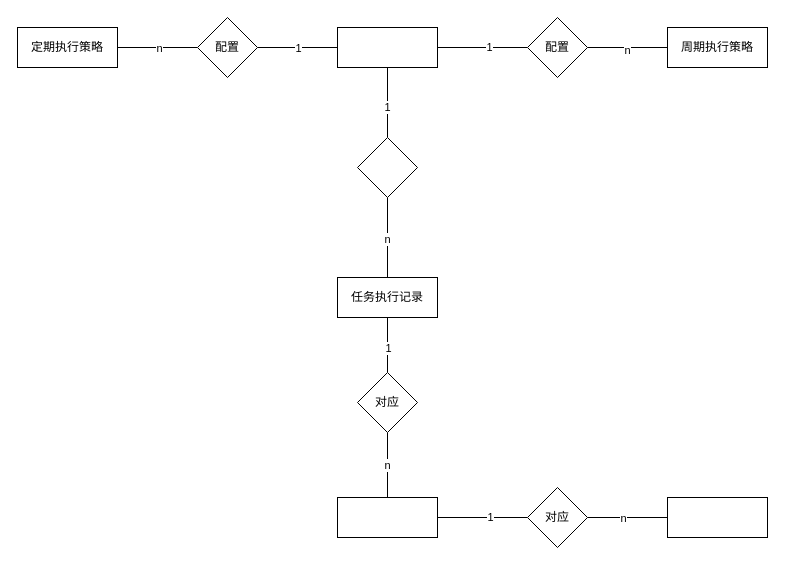
The diagram is 785 pixels wide and 565 high, and some of its shapes have lost their labels. The box of each missing label's shape, as (x1, y1, x2, y2) in pixels:
任务: (336, 26, 438, 68)
点位巡检告警记录: (666, 496, 768, 538)
点位巡检结果: (336, 496, 438, 538)
生成: (356, 136, 418, 198)
